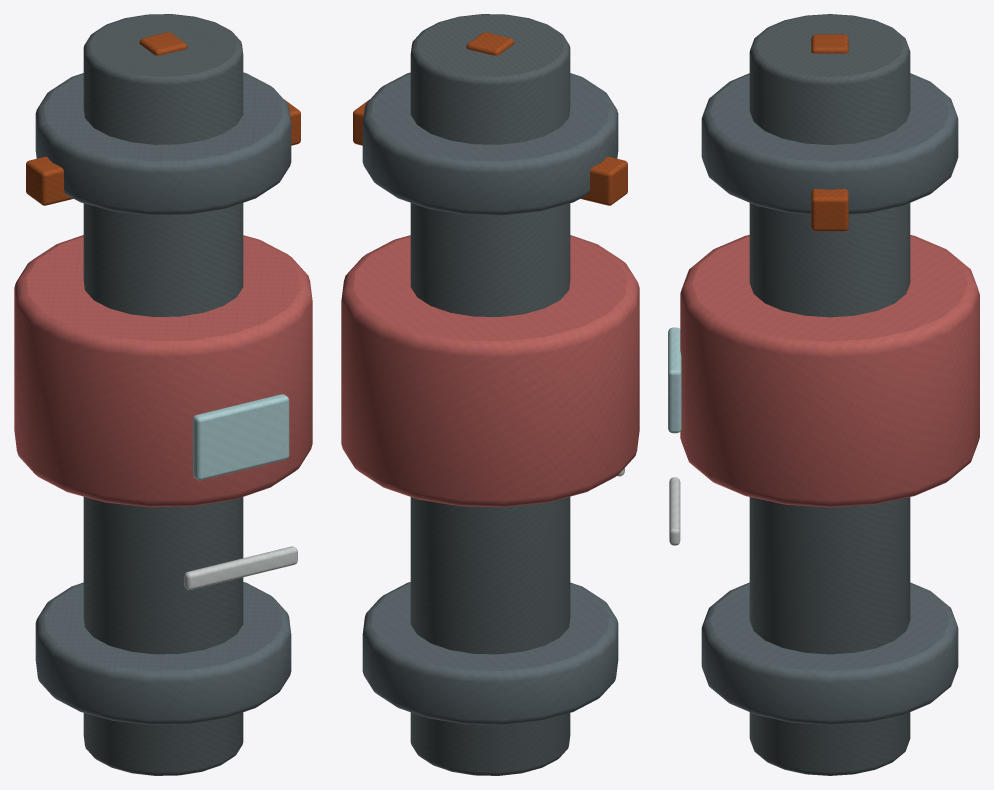
The model's file is PipeValve.fbx.
The picture shows the model from 3 angles, left to right: view 1: azimuth 30°, elevation 25°; view 2: azimuth 150°, elevation 25°; view 3: azimuth 270°, elevation 25°; orthographic projection.
Parts seen in each view (by area): view 1: PipeValve_Mesh; view 2: PipeValve_Mesh; view 3: PipeValve_Mesh.
Part boxes in pixels (x1,y1,x2,y2): PipeValve_Mesh: (14, 14, 312, 775); PipeValve_Mesh: (341, 14, 639, 775); PipeValve_Mesh: (668, 14, 979, 775).
Size of the model in its own units: 56 by 145 by 58.25.
